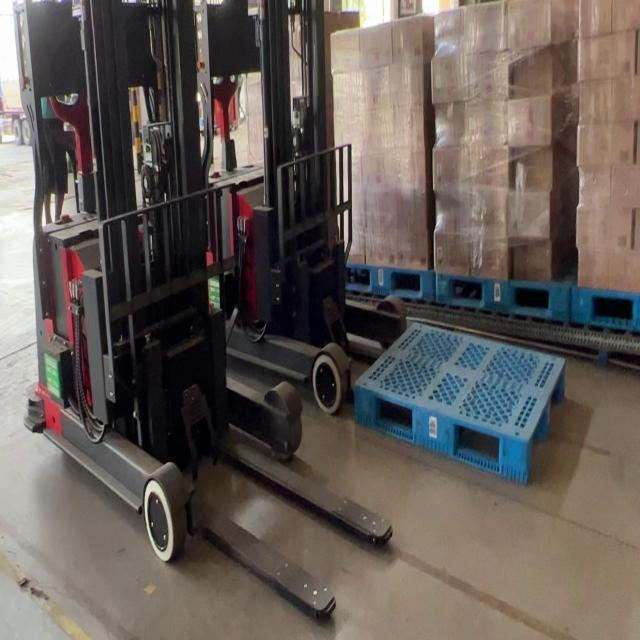forklift: (11, 0, 400, 627), (192, 0, 410, 414)
